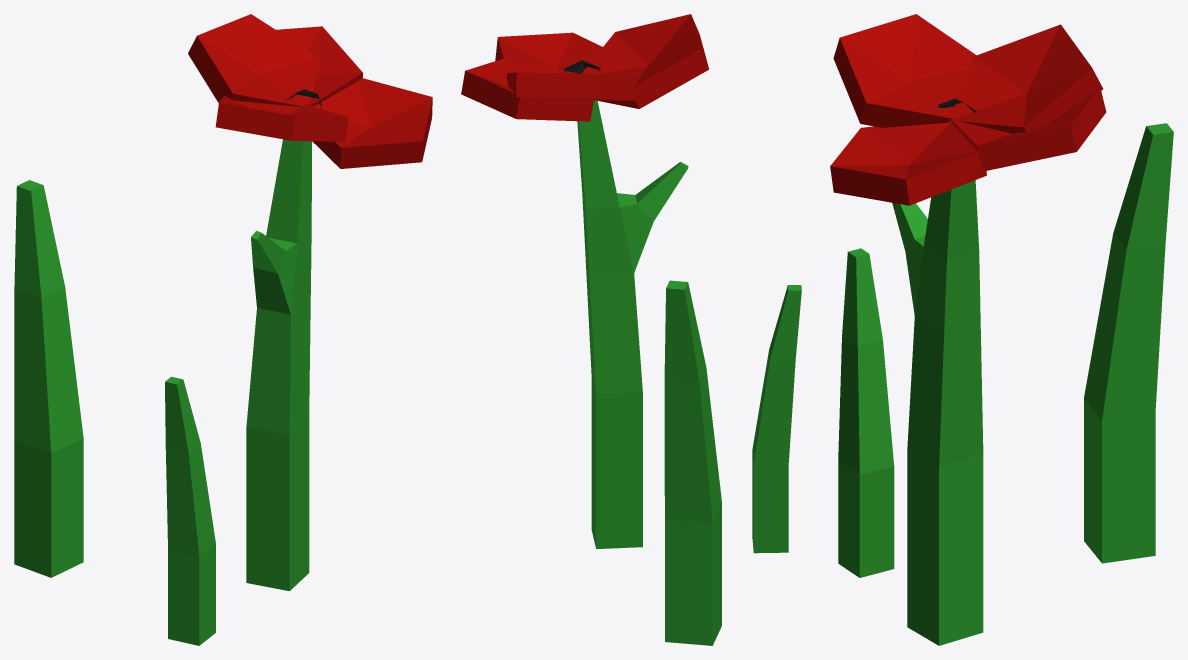
The model's file is Poppy.glb.
The picture shows the model from 3 angles, left to right: view 1: azimuth 30°, elevation 25°; view 2: azimuth 150°, elevation 25°; view 3: azimuth 270°, elevation 25°; orthographic projection. The views are drawn at different scales.
Visible parts, largest first — view 1: Icosphere, Icosphere.002, Icosphere.001; view 2: Icosphere, Icosphere.002, Icosphere.001; view 3: Icosphere, Icosphere.002, Icosphere.001.
Part boxes in pixels (x1,y1,x2,y2): Icosphere: [188, 14, 432, 591]; Icosphere.002: [14, 180, 83, 577]; Icosphere.001: [165, 376, 215, 645]; Icosphere: [461, 14, 709, 548]; Icosphere.002: [664, 280, 721, 645]; Icosphere.001: [752, 285, 801, 553]; Icosphere: [830, 14, 1106, 645]; Icosphere.002: [1084, 123, 1173, 563]; Icosphere.001: [838, 248, 894, 577].
Bounding box in the file's own units: 0.4213 × 0.6526 × 0.3431.
